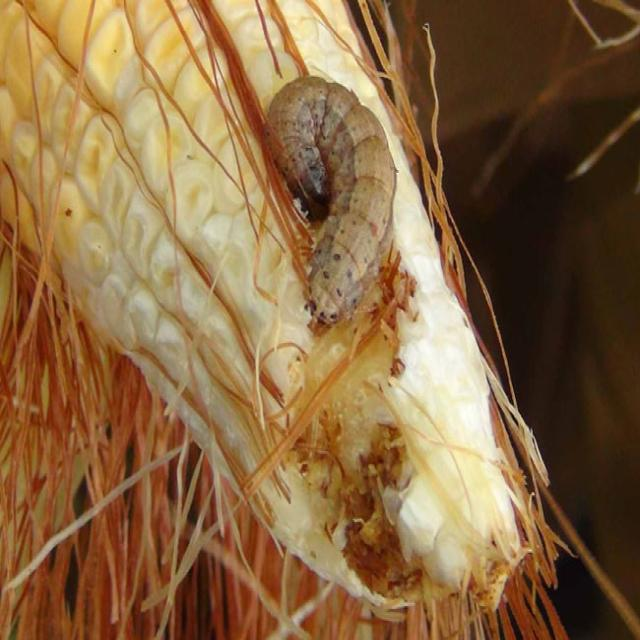Fall-armyworm: (264, 71, 402, 345)
